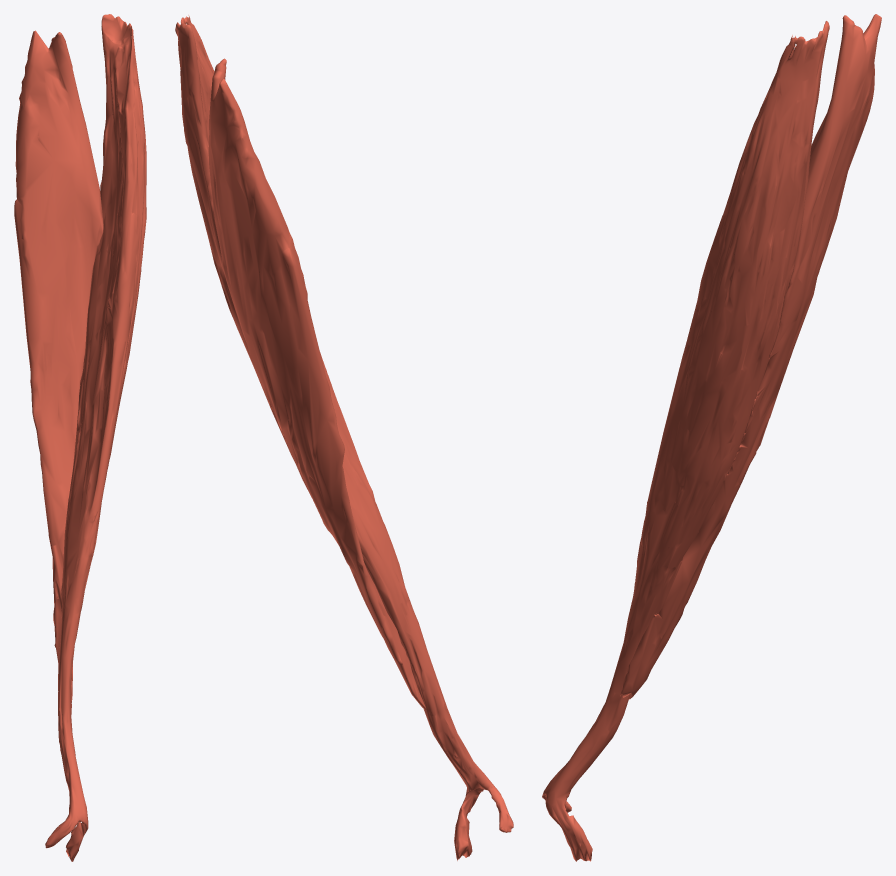
File: flexor-carpi-ulnaris.glb
The picture shows the model from 3 angles, left to right: view 1: azimuth 30°, elevation 25°; view 2: azimuth 150°, elevation 25°; view 3: azimuth 270°, elevation 25°; orthographic projection. The views are drawn at different scales.
Parts seen in each view (by area): view 1: Ulnar head of flexor carpi ulnaris.r, Humeral head of flexor carpi ulnaris.r; view 2: Ulnar head of flexor carpi ulnaris.r, Humeral head of flexor carpi ulnaris.r; view 3: Humeral head of flexor carpi ulnaris.r, Ulnar head of flexor carpi ulnaris.r.
Part boxes in pixels (left/top/right/bottom): Ulnar head of flexor carpi ulnaris.r: left=14, top=30, right=103, bottom=703; Humeral head of flexor carpi ulnaris.r: left=45, top=14, right=146, bottom=861; Ulnar head of flexor carpi ulnaris.r: left=208, top=58, right=426, bottom=710; Humeral head of flexor carpi ulnaris.r: left=175, top=15, right=513, bottom=860; Humeral head of flexor carpi ulnaris.r: left=542, top=21, right=829, bottom=861; Ulnar head of flexor carpi ulnaris.r: left=620, top=14, right=881, bottom=699.
Size of the model in its own units: 0.071 by 0.2758 by 0.0922.
